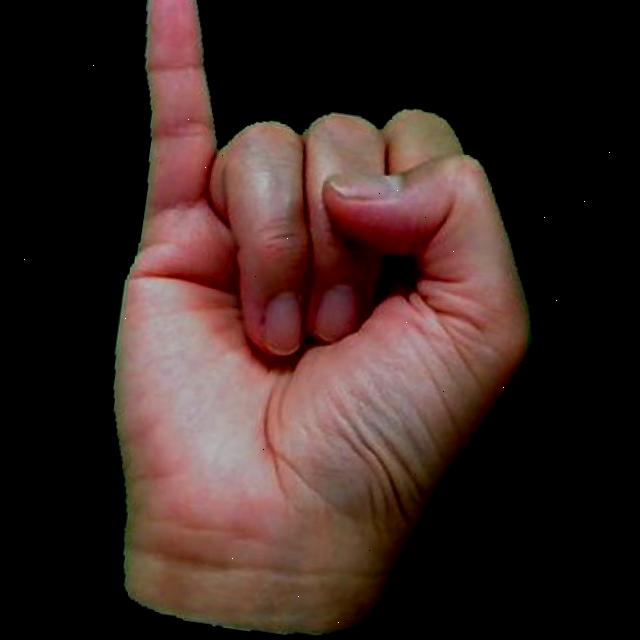i: (55, 0, 578, 640)
